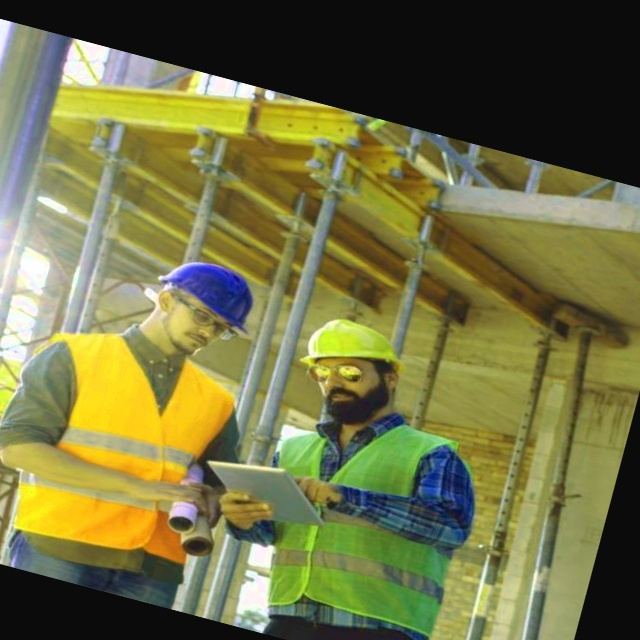Con_Casco: (142, 250, 264, 365)
Con_Chaleco: (0, 318, 255, 576), (244, 401, 488, 639)
